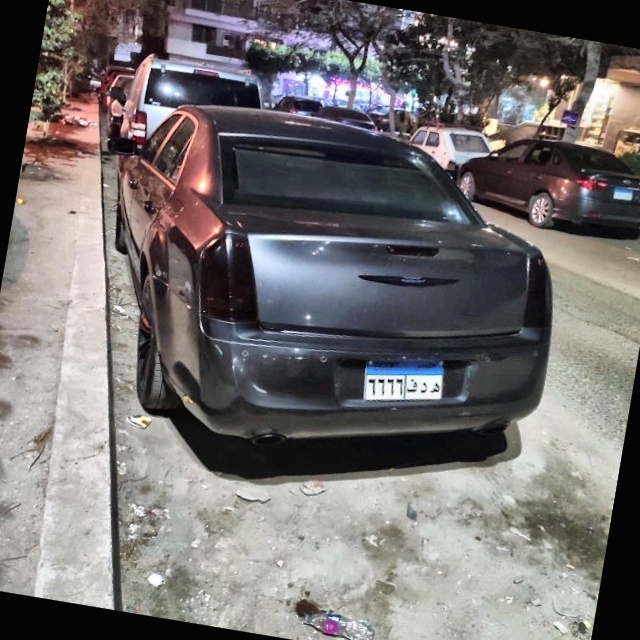License Plate: (357, 346, 451, 419)
